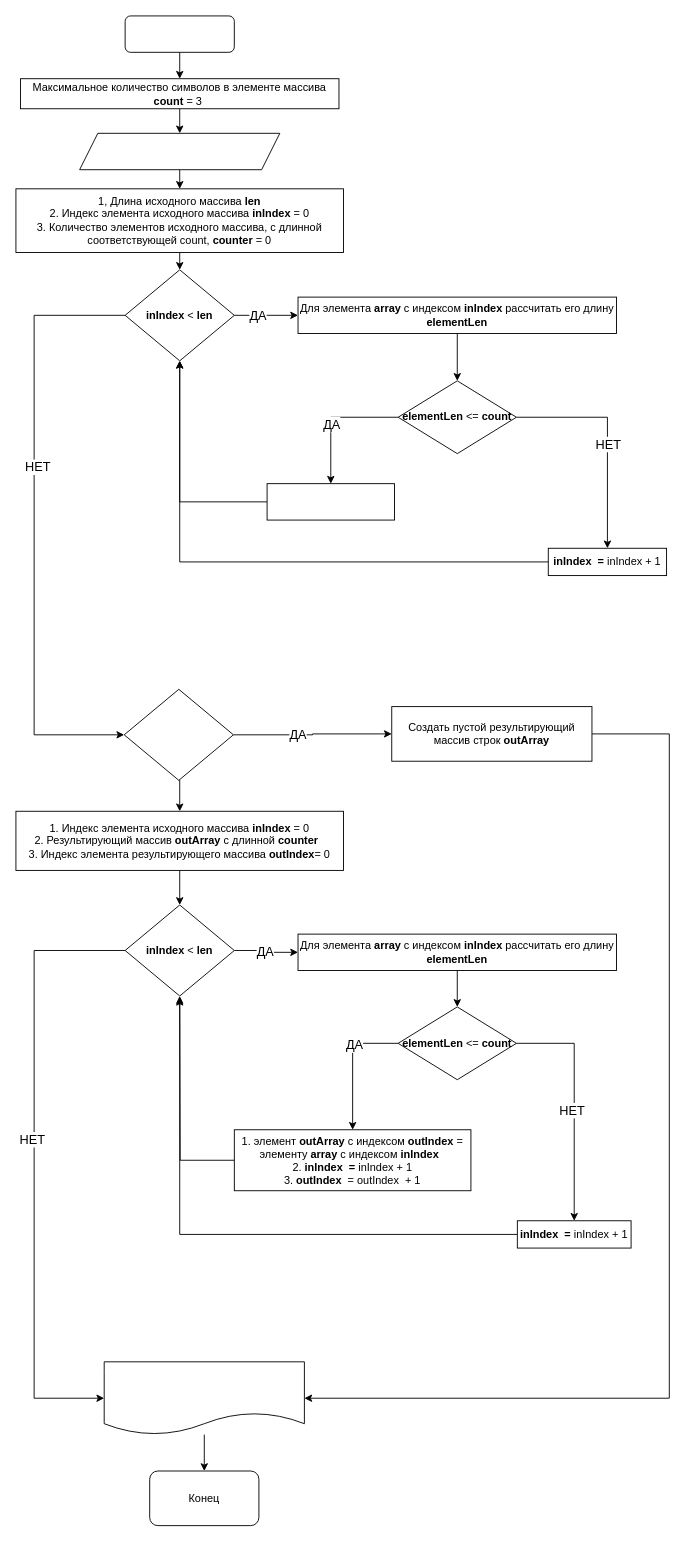
Some shapes in this 693 by 1542 pixel diagram are drawn without their labels. The shapes that lost their labels are listed below. From the top down, each one's box as (x1, y1, x2, y2) in pixels, then its label:
(124, 15, 234, 52): Начало
(79, 132, 280, 170): Исходный массив array
(266, 483, 394, 520): counter = count + 1 inIndex = inIndex + 1
(123, 688, 233, 780): counter = 0
(103, 1361, 304, 1435): Результирующий массив строк outArray
